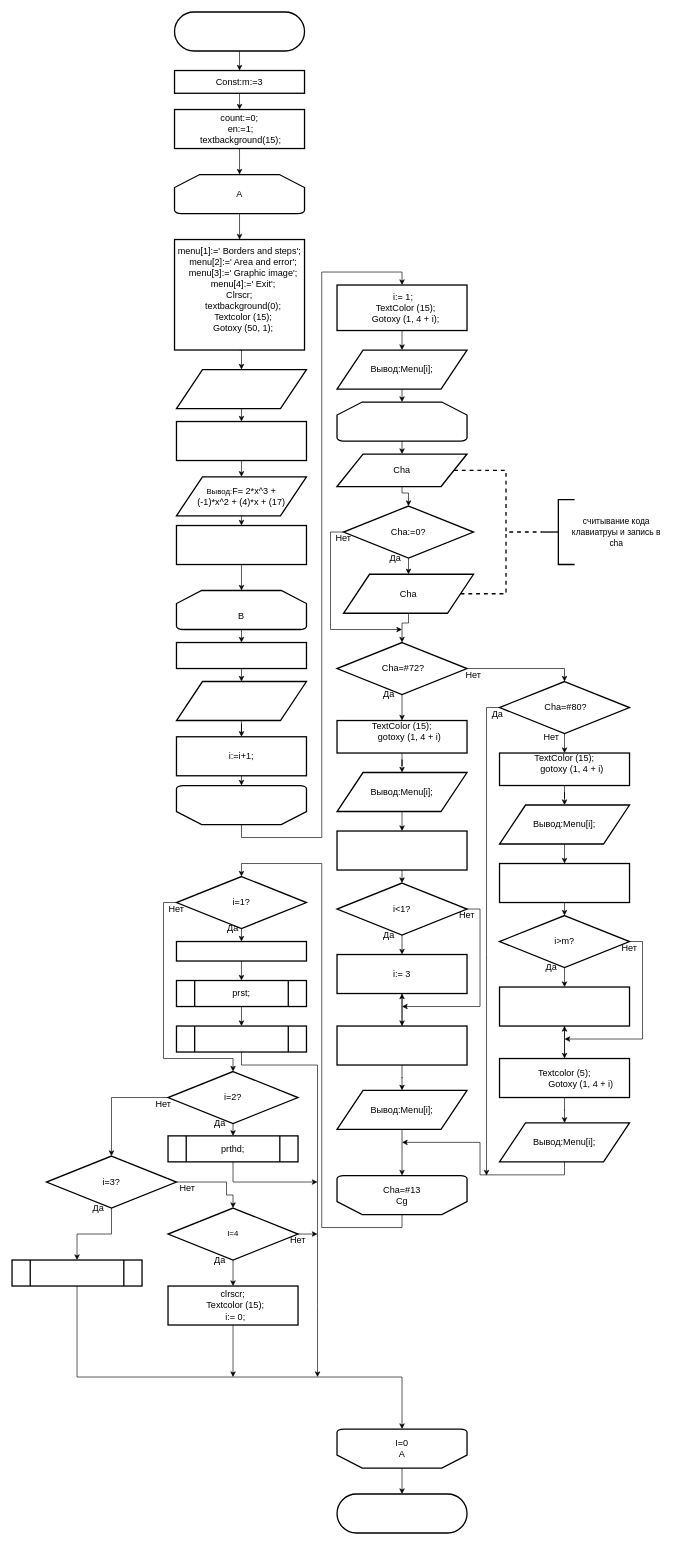
The diagram is 673 pixels wide and 1544 high, and some of its shapes have lost their labels. Each missing label, with the centre of its shape:
"Cg" goes at (401,421).
"Count:=1;" goes at (241,951).
"GotoXY (1, 4 + i);" goes at (241,655).
"Gotoxy (44, 2); Textcolor (15);" goes at (241,545).
"graph;" goes at (76,1272).
"i:= 1" goes at (564,1006).
"i:= i +1;" goes at (564,883).
"i:= i - 1;" goes at (401,850).
"I>m B" goes at (241,805).
"prsd;" goes at (241,1038).
"Textcolor (114); Gotoxy (1, 4 + i)" goes at (401,1045).
"Textcolor (15); Gotoxy (44, 2);" goes at (241,441).
"Вывод: Laboratory work №3" goes at (241,389).
"Вывод: Write (Menu[i]);" goes at (241,701).
"Конец" goes at (401,1513).
"Начало" goes at (239,31).
